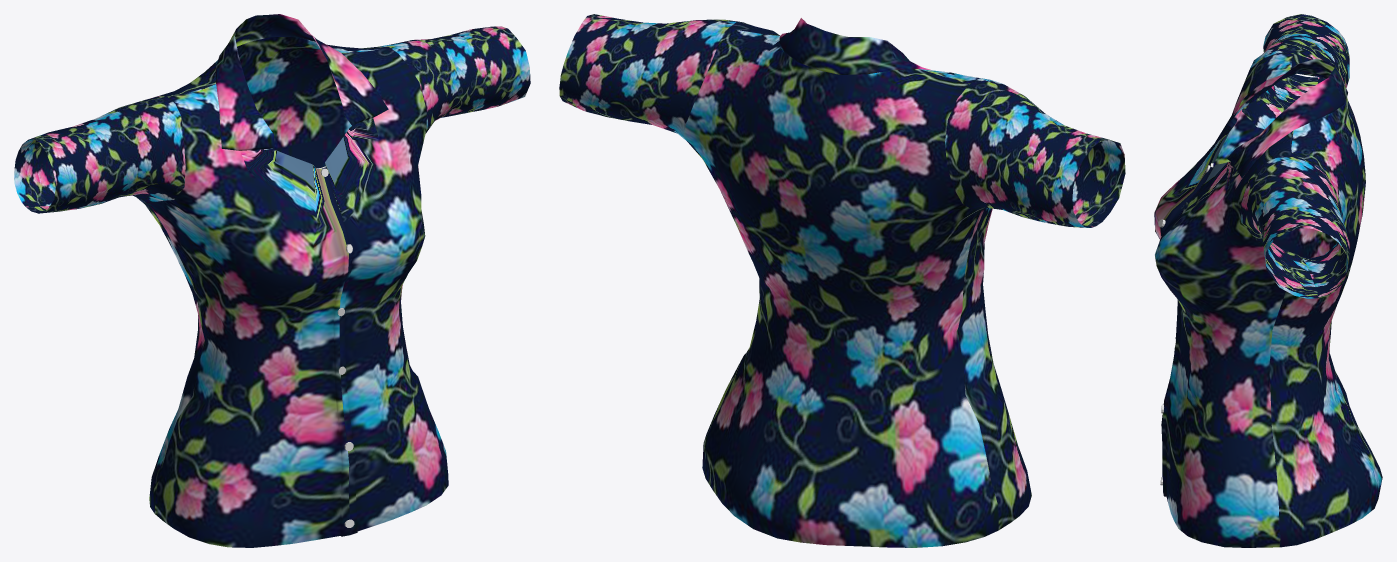
Rendered from Shirt_Female.fbx.
The picture shows the model from 3 angles, left to right: view 1: azimuth 30°, elevation 25°; view 2: azimuth 150°, elevation 25°; view 3: azimuth 270°, elevation 25°; orthographic projection. The views are drawn at different scales.
Parts seen in each view (by area): view 1: Shirt; view 2: Shirt; view 3: Shirt.
Boxes of the visible parts, bbox=[...] form: Shirt: bbox=[14, 14, 530, 547]; Shirt: bbox=[559, 14, 1125, 547]; Shirt: bbox=[1154, 14, 1382, 547].
Bounding box in the file's own units: 52.52 × 47.53 × 23.17.
